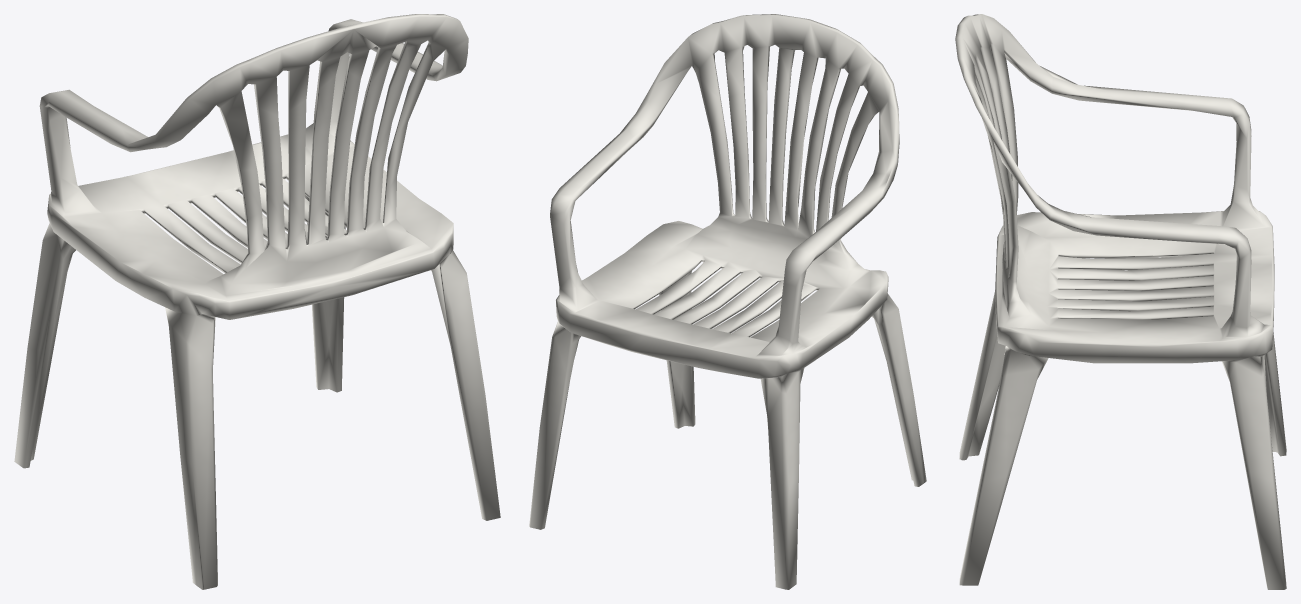
The model's file is vergil_chair.obj.
3 views of the same model, side by side, from view 1: azimuth 30°, elevation 25°; view 2: azimuth 150°, elevation 25°; view 3: azimuth 270°, elevation 25° (orthographic). The views are drawn at different scales.
Visible parts, largest first — view 1: vergil_chair; view 2: vergil_chair; view 3: vergil_chair.
Part boxes in pixels (left/top/right/bottom): vergil_chair: left=14, top=14, right=500, bottom=589; vergil_chair: left=529, top=14, right=926, bottom=589; vergil_chair: left=955, top=14, right=1286, bottom=589.
Size of the model in its own units: 0.8599 by 1.35 by 0.847.
